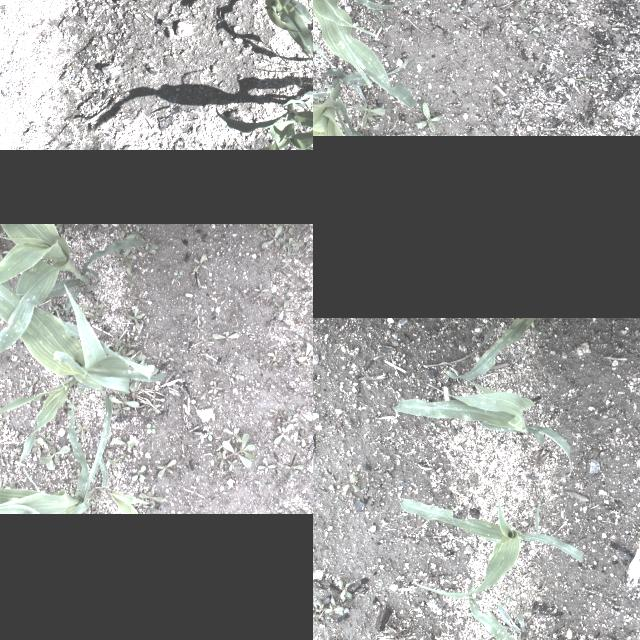crop: (0, 257, 167, 465), (0, 224, 153, 359), (0, 386, 148, 514), (400, 494, 582, 598), (392, 379, 572, 476), (313, 0, 420, 107), (313, 60, 407, 135), (214, 78, 313, 149), (440, 318, 546, 379), (468, 573, 528, 640), (261, 0, 313, 60)
weed: (354, 84, 388, 126), (216, 434, 258, 468), (409, 98, 443, 136), (130, 360, 158, 392), (283, 454, 303, 482), (39, 446, 70, 464), (37, 438, 53, 470), (260, 225, 282, 248), (138, 488, 164, 507), (210, 331, 240, 347), (283, 65, 305, 85), (278, 240, 300, 260), (111, 247, 132, 267), (272, 424, 292, 444), (124, 306, 140, 330), (134, 232, 158, 248), (286, 406, 312, 420), (108, 395, 138, 407), (66, 400, 84, 420), (336, 580, 354, 600), (157, 459, 176, 477), (326, 597, 344, 615), (298, 342, 313, 363), (256, 460, 276, 474), (278, 300, 292, 320), (222, 428, 242, 442), (105, 449, 119, 468), (281, 237, 303, 249), (192, 252, 205, 272), (118, 336, 136, 350), (342, 476, 360, 490), (136, 244, 156, 256), (282, 414, 296, 431), (278, 409, 292, 425), (131, 466, 145, 482), (71, 423, 85, 439), (111, 438, 133, 448), (127, 351, 145, 363), (299, 427, 309, 448), (313, 599, 323, 620), (145, 401, 161, 414), (283, 224, 308, 232), (527, 22, 541, 36), (111, 224, 126, 237), (252, 284, 268, 296), (113, 402, 129, 414), (84, 310, 100, 322), (266, 350, 284, 360), (125, 268, 135, 286), (210, 380, 222, 394), (151, 352, 165, 364), (18, 374, 30, 388), (130, 293, 146, 303), (7, 427, 17, 443), (28, 376, 38, 392), (118, 349, 134, 359), (114, 393, 125, 407), (0, 243, 8, 262), (304, 55, 313, 71), (90, 301, 102, 313), (112, 340, 122, 354), (86, 497, 100, 507), (200, 388, 212, 399), (76, 388, 88, 399), (303, 292, 313, 305), (255, 224, 266, 235), (274, 230, 284, 242), (231, 372, 243, 382), (142, 504, 154, 514), (110, 330, 122, 340), (45, 305, 57, 315), (300, 504, 313, 513), (205, 428, 213, 442), (32, 442, 40, 456), (276, 454, 286, 464), (42, 434, 52, 444), (96, 304, 106, 314), (228, 459, 236, 471), (150, 394, 158, 406), (142, 332, 150, 344), (132, 224, 142, 233), (263, 224, 280, 229), (196, 323, 204, 333), (146, 424, 154, 434), (120, 452, 128, 462), (59, 304, 67, 314), (11, 450, 21, 458), (327, 636, 347, 640), (174, 269, 182, 277), (54, 307, 62, 315), (92, 508, 102, 514), (55, 224, 65, 230), (254, 479, 262, 486), (282, 227, 286, 240), (273, 359, 281, 365), (140, 316, 146, 324), (29, 125, 35, 132), (268, 409, 278, 413), (181, 50, 187, 56), (170, 14, 176, 20), (96, 80, 102, 86), (0, 421, 5, 428), (128, 484, 136, 488), (64, 224, 74, 227), (190, 485, 197, 489), (90, 83, 96, 87), (230, 378, 234, 384), (88, 232, 92, 238), (173, 258, 177, 262), (197, 236, 201, 240), (0, 477, 1, 491), (83, 242, 85, 248), (187, 445, 191, 447)
